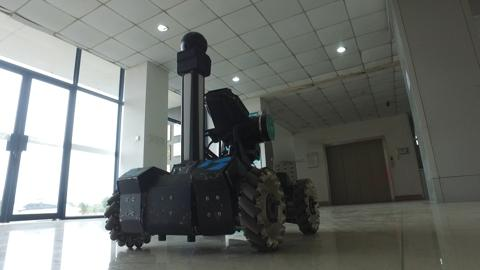chariot: (91, 31, 338, 258)
